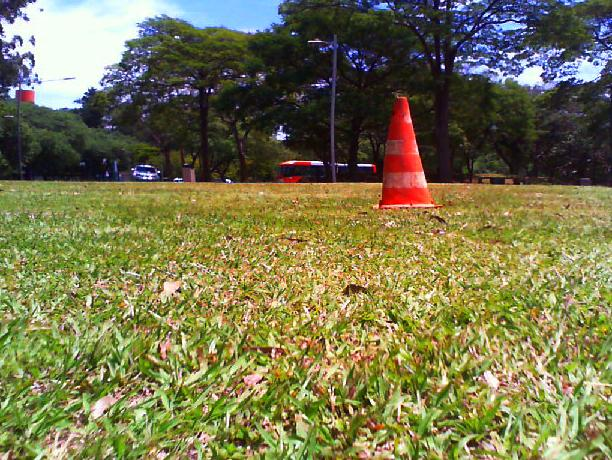0 cone: (374, 97, 440, 209)
